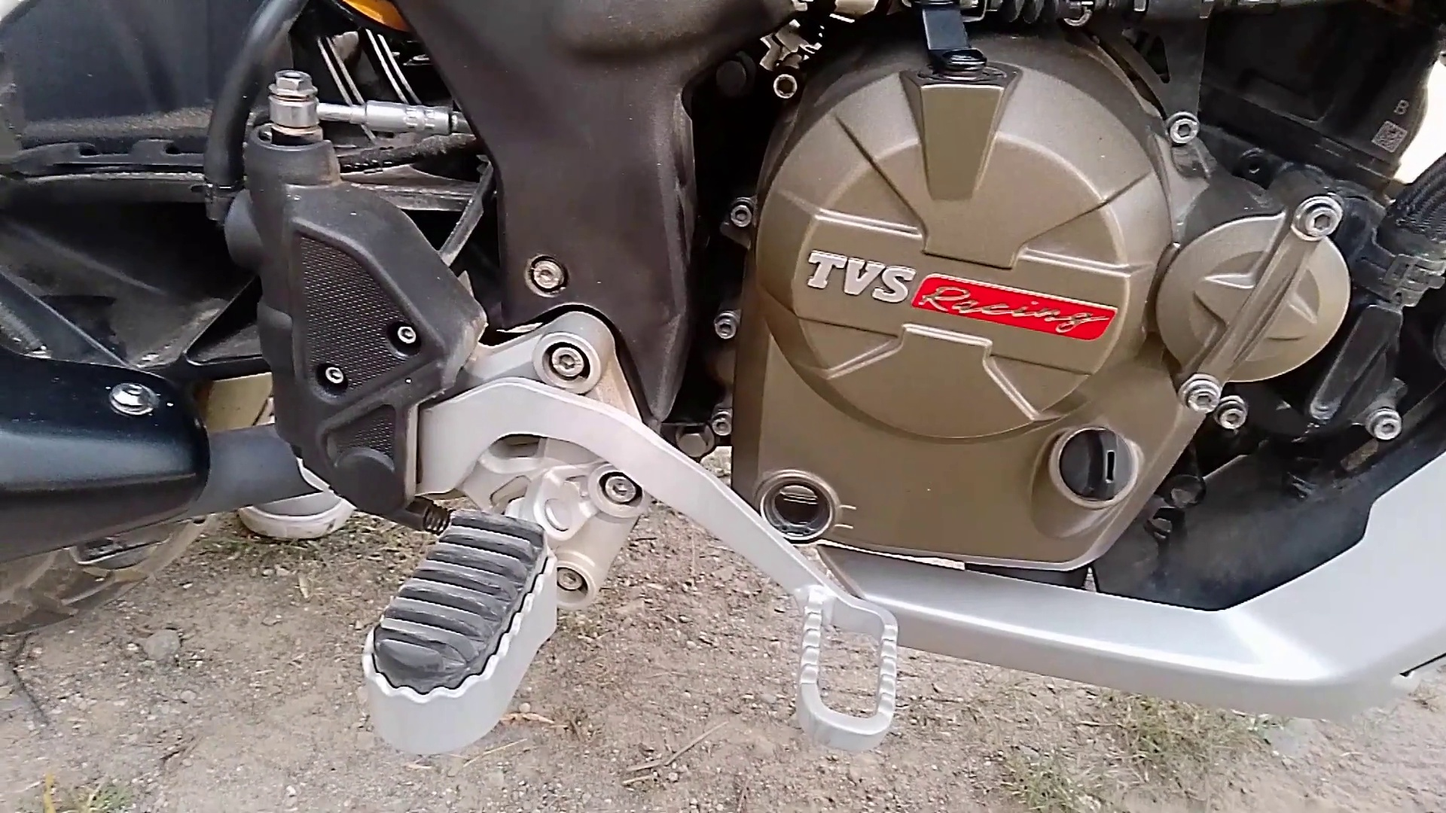bike-engine: (722, 33, 1364, 581)
bike-engine-level: (751, 468, 846, 546)
bike-oil-cap: (1039, 422, 1148, 518)
